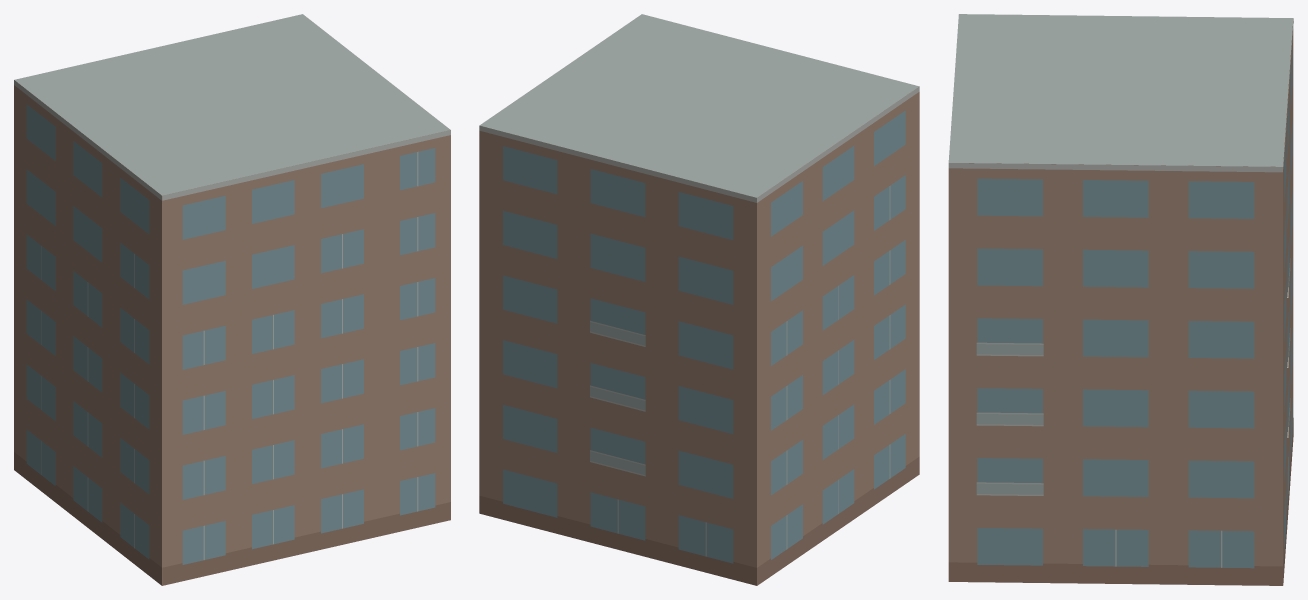
Rendered from survey-upis-32655539.glb.
3 renders of one model, left to right at view 1: azimuth 30°, elevation 25°; view 2: azimuth 150°, elevation 25°; view 3: azimuth 270°, elevation 25°, orthographic. The views are drawn at different scales.
Parts seen in each view (by area): view 1: survey-upis-32655539.tmp; view 2: survey-upis-32655539.tmp; view 3: survey-upis-32655539.tmp.
Part boxes in pixels (x1,y1,x2,y2): survey-upis-32655539.tmp: (14, 14, 450, 585); survey-upis-32655539.tmp: (479, 14, 919, 585); survey-upis-32655539.tmp: (948, 14, 1293, 585).
Size of the model in its own units: 14.56 by 18.6 by 13.88.
